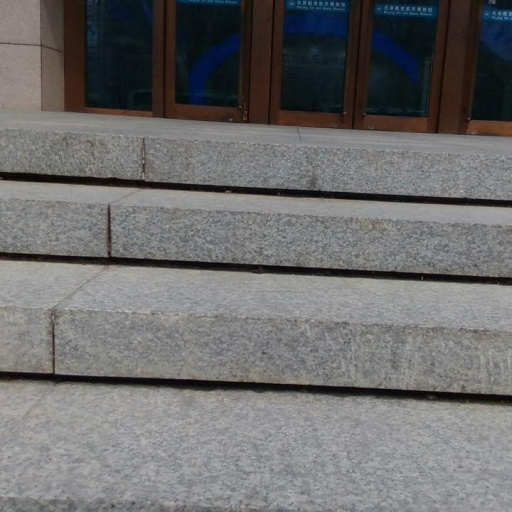Stairs: (0, 111, 512, 512)
